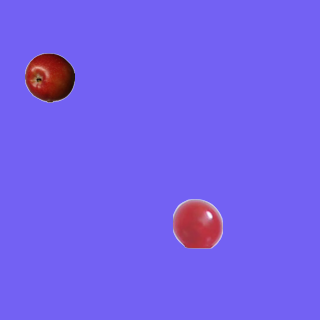Apple Braeburn: (24, 52, 74, 102)
Redcurrant: (172, 198, 222, 248)
